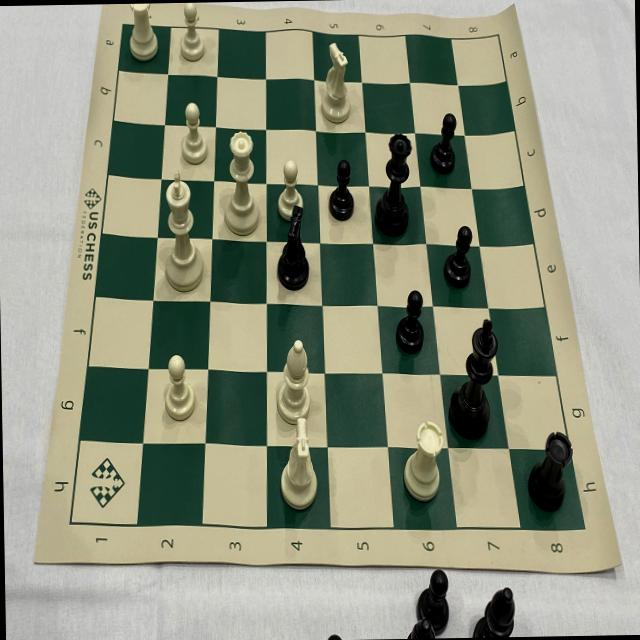black-king: (446, 316, 504, 442)
black-knight: (270, 204, 313, 292)
black-pawn: (438, 220, 475, 294), (426, 110, 459, 181), (394, 286, 426, 356), (326, 156, 356, 221)
black-queen: (372, 129, 415, 241)
black-rook: (524, 426, 575, 516)
white-bishop: (274, 335, 311, 427)
white-king: (160, 166, 206, 296)
white-knight: (276, 416, 321, 514), (317, 38, 354, 125)
white-pawn: (158, 351, 198, 423), (177, 99, 210, 168), (274, 156, 306, 222), (175, 2, 208, 64)
white-queen: (222, 126, 262, 240)
white-rook: (400, 414, 444, 504), (128, 2, 160, 66)
